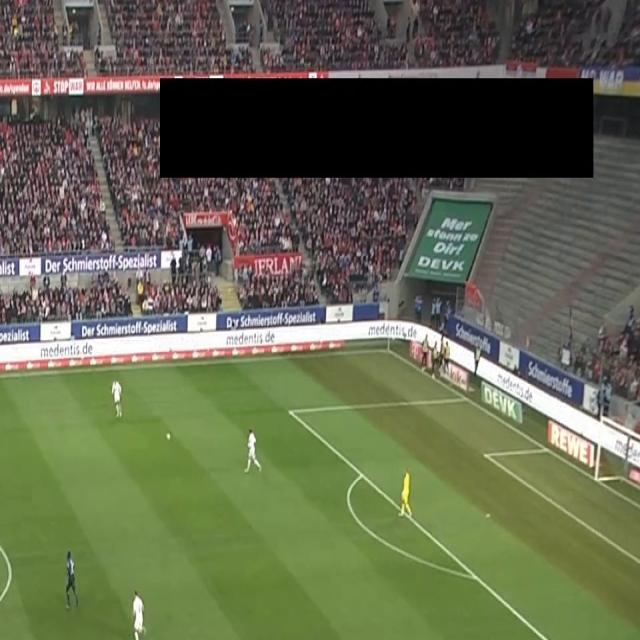ball: (166, 432, 172, 442)
